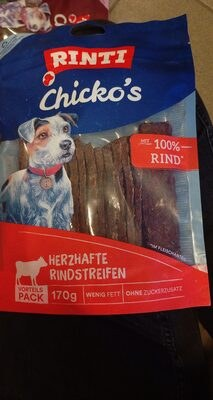Chicko: (11, 20, 202, 380)
